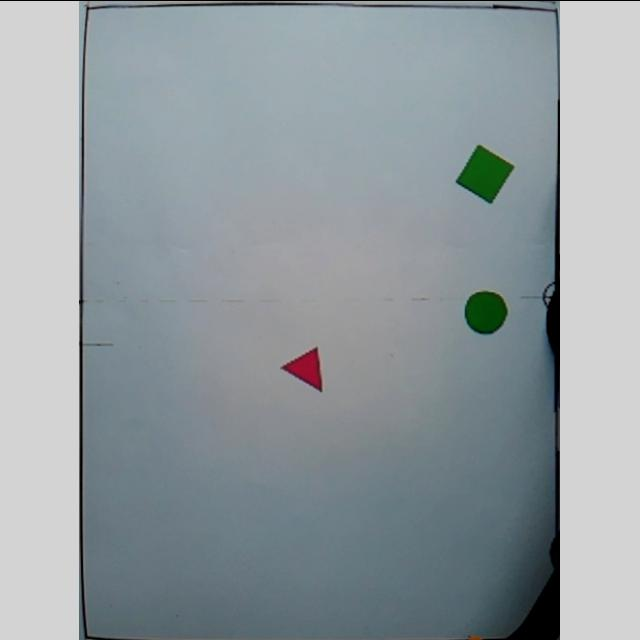greenCircle: (465, 288, 513, 336)
greenSquare: (455, 144, 517, 206)
pinkTriangle: (278, 346, 328, 392)
